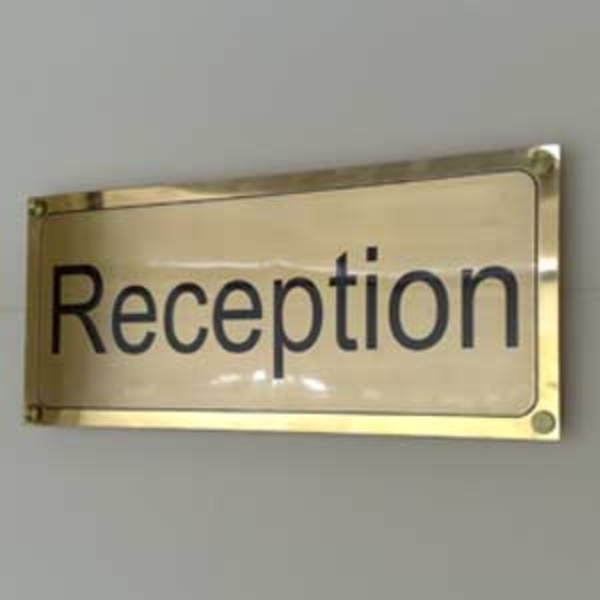text: (65, 235, 80, 385), (81, 235, 96, 385), (97, 235, 112, 385), (113, 235, 128, 385), (129, 235, 144, 385), (145, 235, 160, 385), (161, 235, 176, 385), (177, 235, 192, 385), (193, 235, 208, 385), (209, 235, 224, 385), (225, 235, 240, 385), (241, 235, 256, 385), (257, 235, 272, 385), (273, 235, 288, 385), (289, 235, 304, 385), (305, 235, 320, 385), (321, 235, 336, 385), (337, 235, 352, 385), (353, 235, 368, 385), (369, 235, 384, 385), (385, 235, 400, 385), (401, 235, 416, 385), (417, 235, 432, 385), (433, 235, 448, 385), (449, 235, 464, 385), (465, 235, 480, 385), (481, 235, 496, 385), (497, 235, 512, 385), (51, 235, 64, 385), (513, 235, 521, 385)
